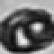correct: (1, 7, 54, 50)
